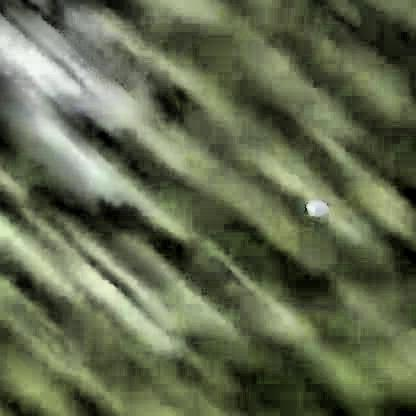golfball: (300, 200, 328, 219)
